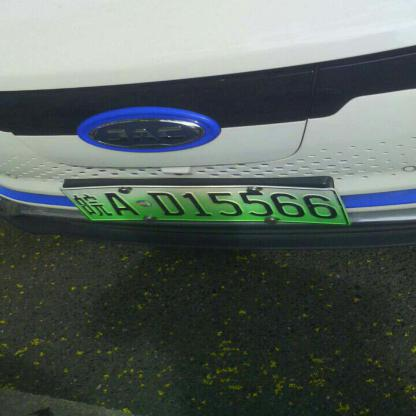lp: (62, 187, 348, 224)
